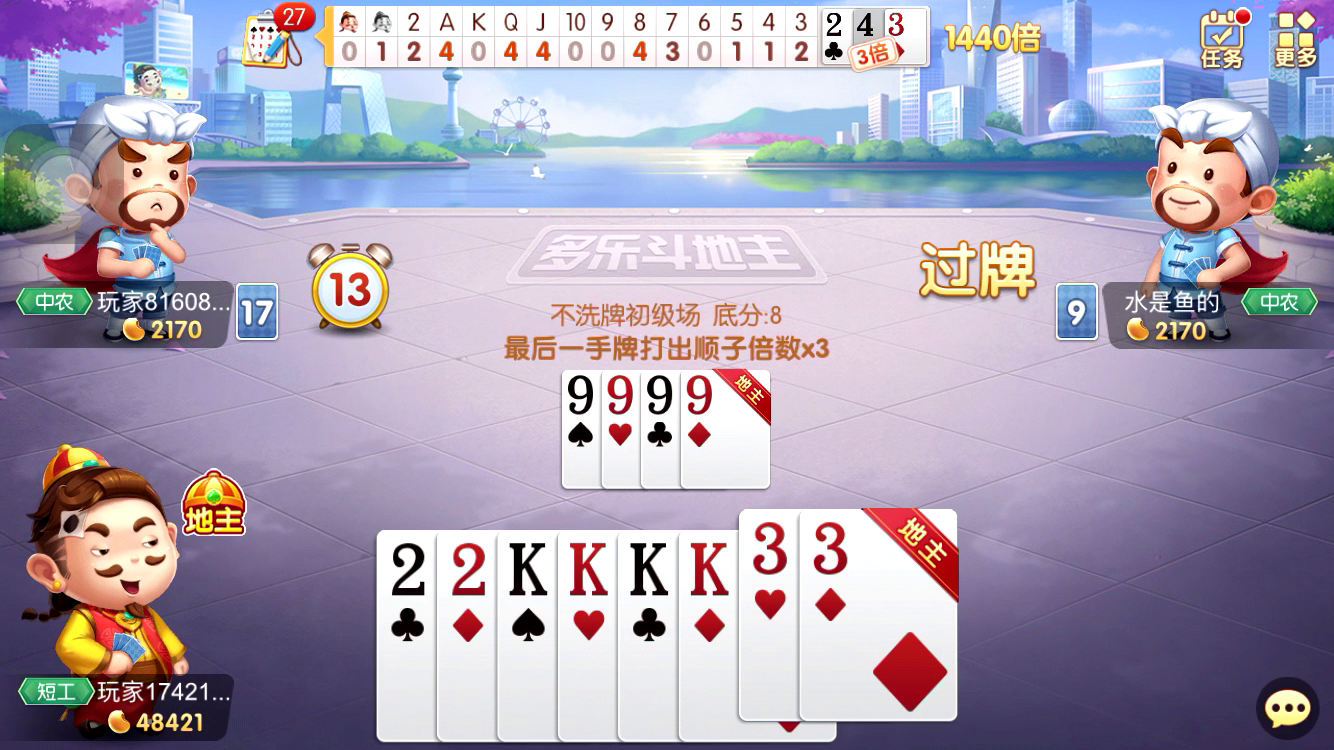K: (682, 534, 736, 605), (500, 536, 553, 606), (623, 535, 675, 605), (562, 536, 615, 603)
four: (855, 7, 880, 44)
nine: (682, 370, 725, 421), (561, 370, 599, 420), (602, 373, 638, 420), (640, 371, 675, 418)
three: (805, 517, 861, 584), (744, 516, 798, 583), (886, 6, 914, 40)
two: (442, 537, 493, 605), (382, 538, 433, 606), (823, 13, 849, 43)
